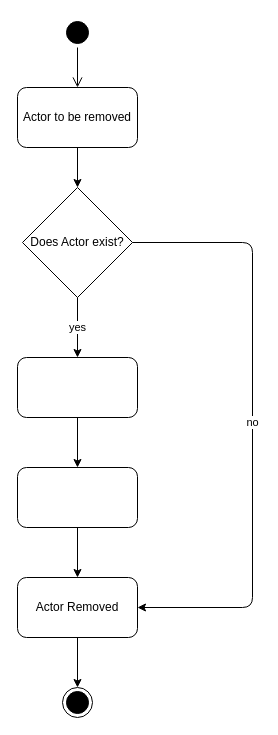
This 278x735 diagram has some shape labels left out. Here are the shapes that lost their labels. From the top down, the box of each, then its label:
(16, 356, 138, 418): Remove FIlm
(16, 466, 138, 528): Remove Actor
